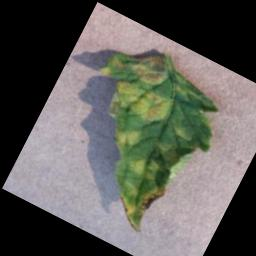Leaf_Mold: (103, 70, 179, 141), (107, 166, 170, 236), (127, 43, 177, 91), (106, 120, 144, 159), (124, 150, 163, 185), (169, 117, 198, 144)
